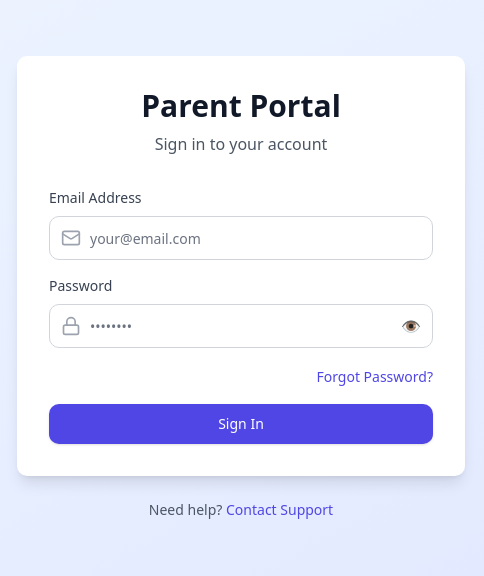
Test: ParentLoginPage › Form Validation › should show error when password is empty
Type "test@example.com" into the field labelled "Email Address".
click(241, 238); type("test@example.com")  # box [49,216,433,260]
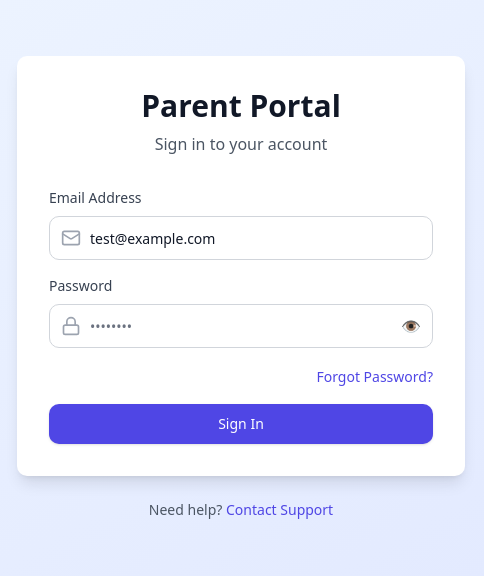
Click the button "Sign In".
click(241, 424)  # box [49,404,433,444]
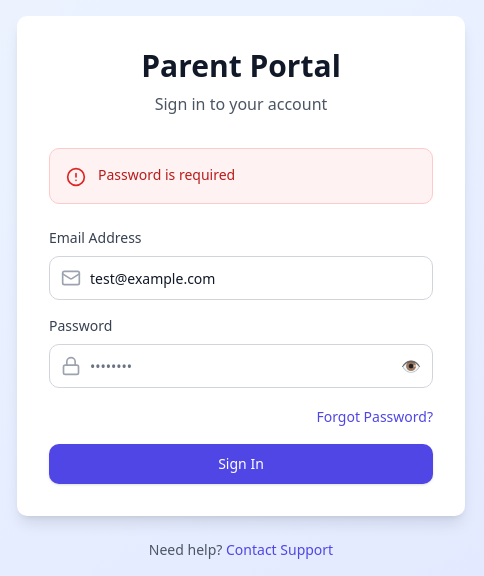
Now the text "Password is required" is shown, box [98,165,235,187]
